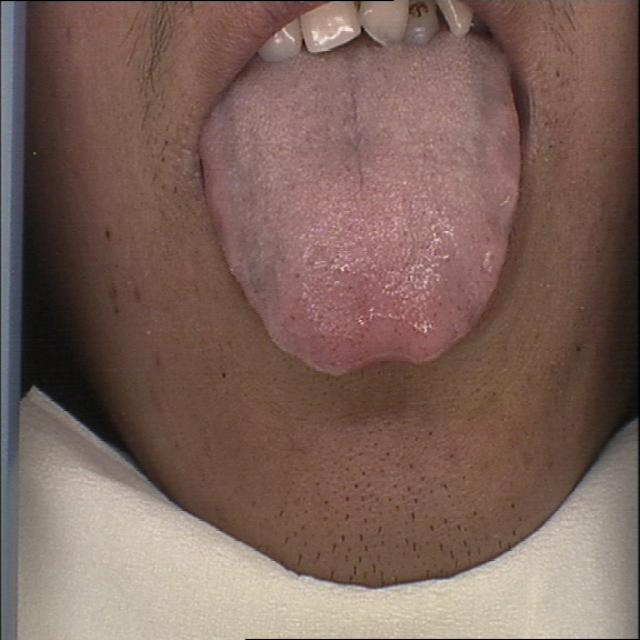tongue: (194, 53, 525, 390)
